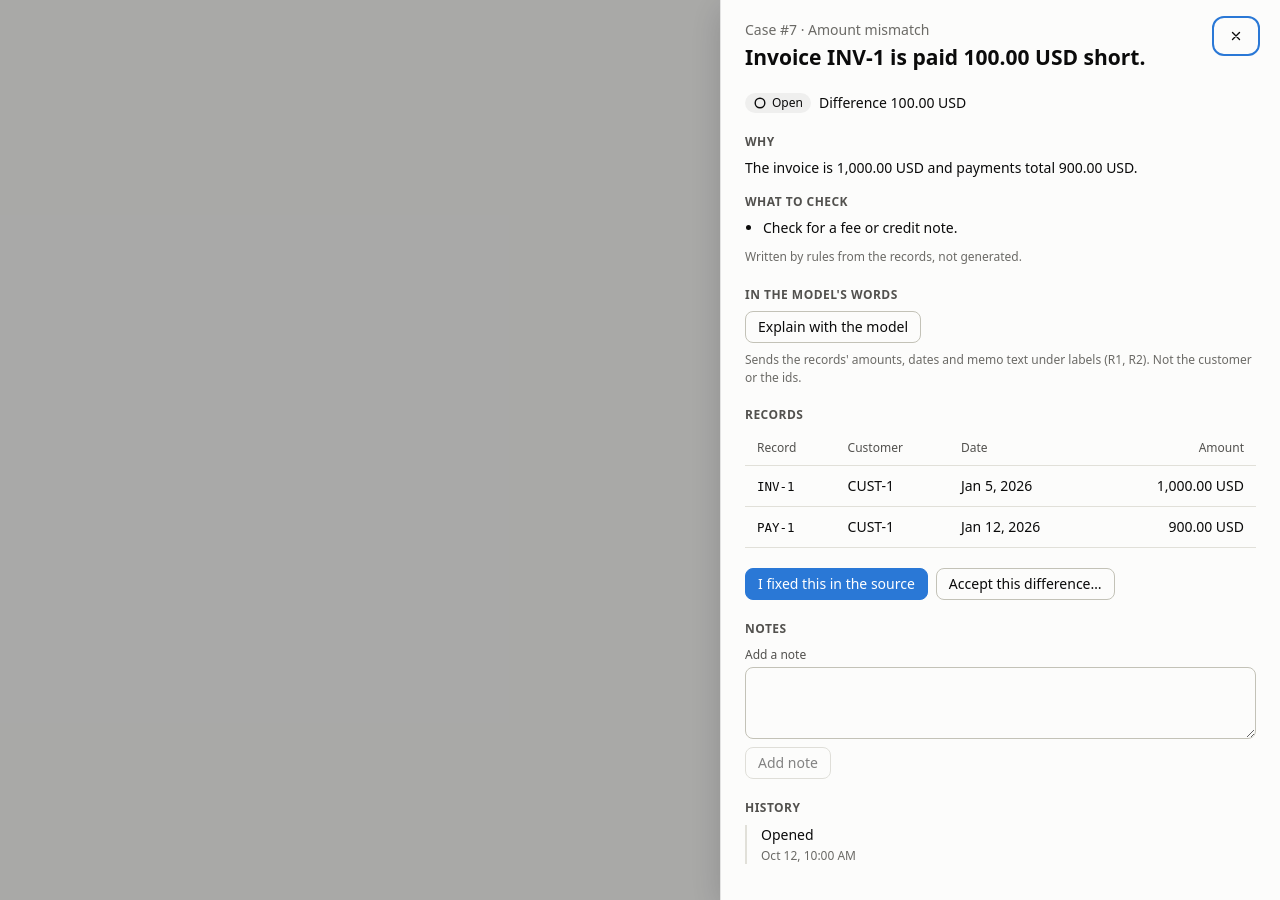
it: ExplanationSection › shows an error from the server without losing the page
Click the button "Explain with the model" at (833, 327), box [745, 311, 921, 343]
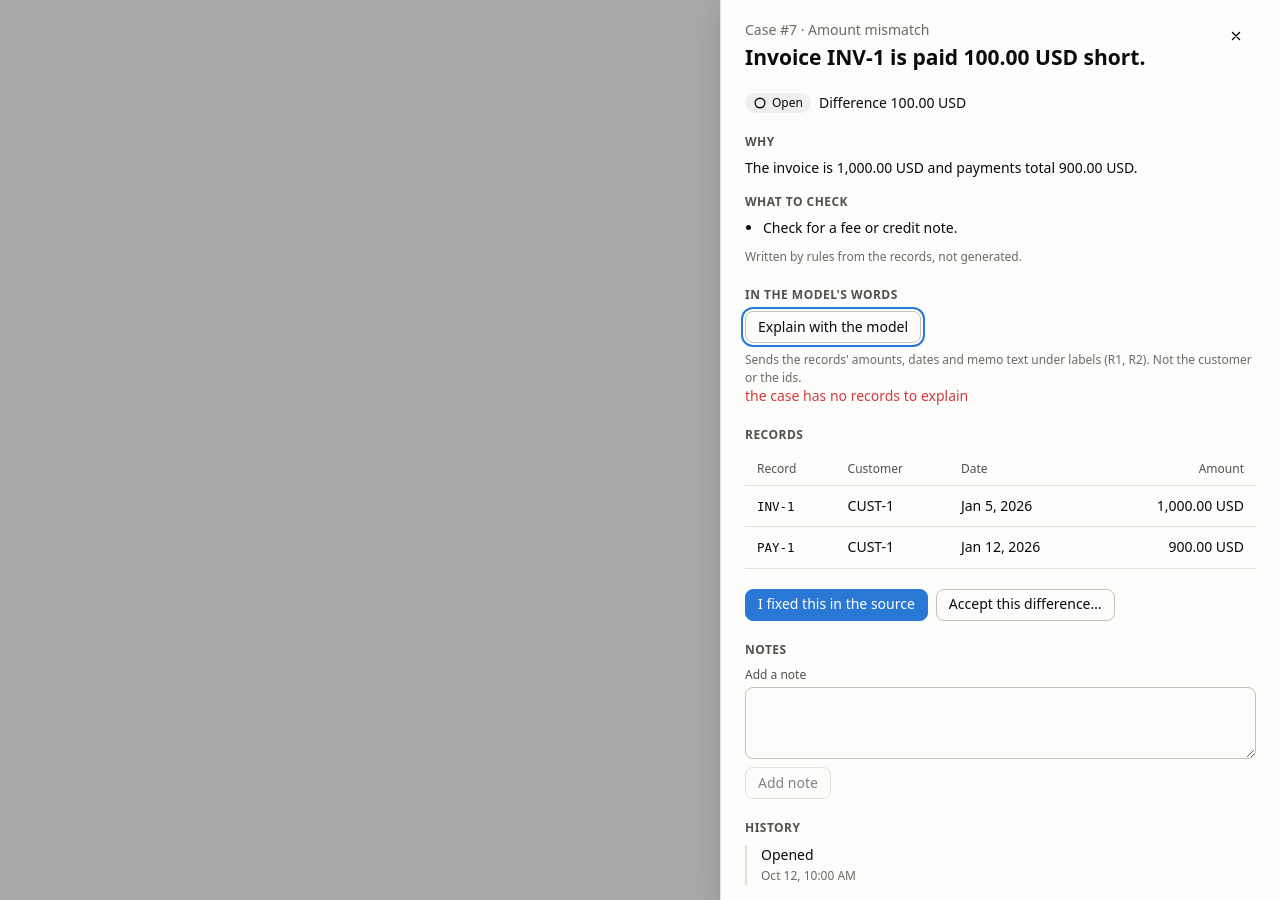
Expected: the heading "Why" is shown, [745, 133, 775, 150]
Now the message shows "no records to explain", box [745, 386, 968, 405]
